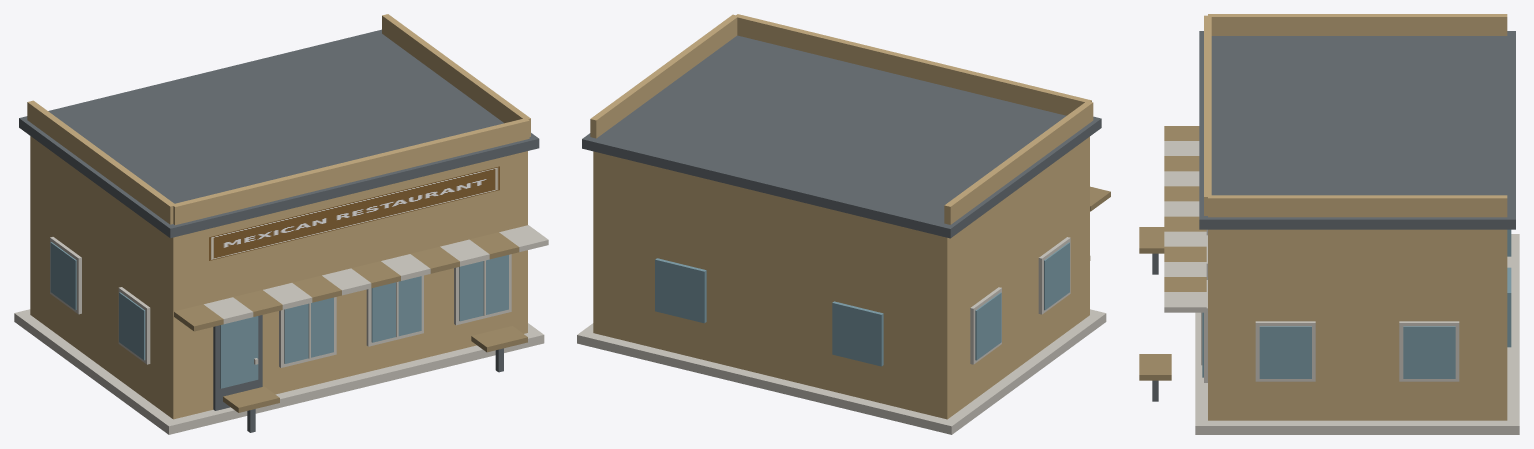
Rendered from mexican_restaurant.glb.
The picture shows the model from 3 angles, left to right: view 1: azimuth 30°, elevation 25°; view 2: azimuth 150°, elevation 25°; view 3: azimuth 270°, elevation 25°; orthographic projection. The views are drawn at different scales.
Parts seen in each view (by area): view 1: world; view 2: world; view 3: world.
Part boxes in pixels (left/top/right/bottom): world: left=14, top=14, right=548, bottom=434; world: left=577, top=14, right=1110, bottom=434; world: left=1139, top=14, right=1519, bottom=434.
Bounding box in the file's own units: 9.1 × 5.15 × 7.62.
Materials: 2 (1 with a texture image).
